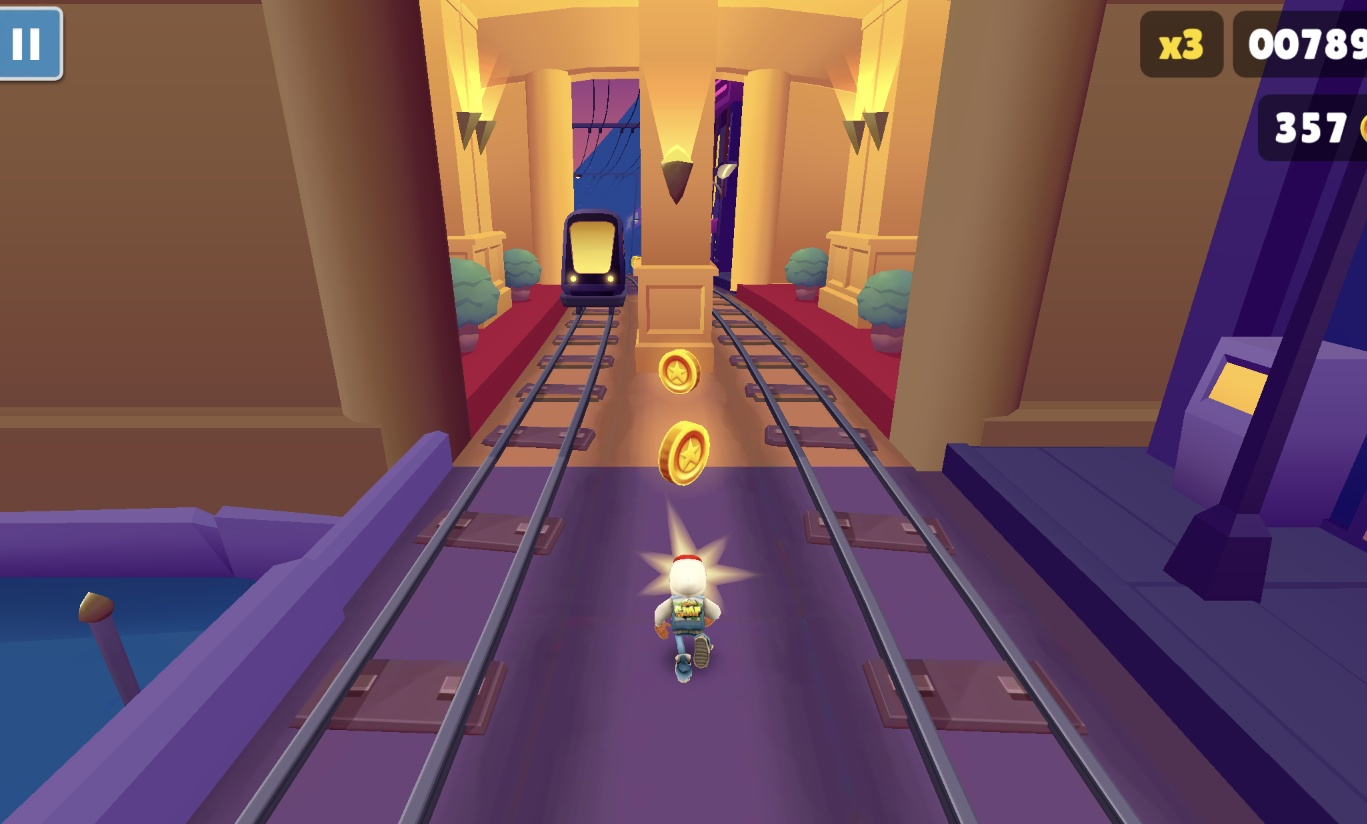pillar: (634, 0, 719, 374)
train: (558, 208, 630, 309)
